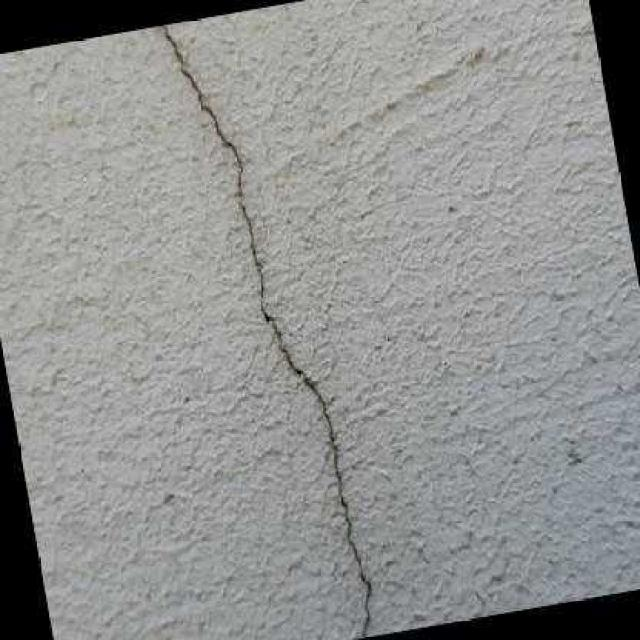D00: (157, 23, 368, 638)
